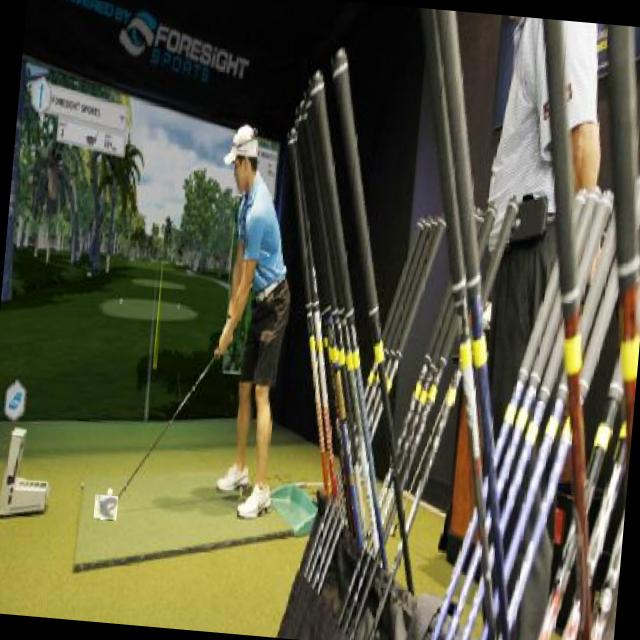club head: (93, 494, 118, 520)
